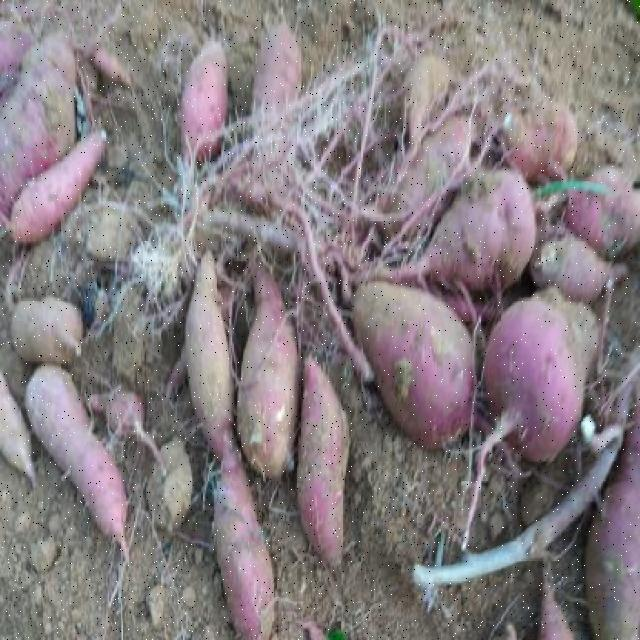Sweet Potato: (333, 234, 481, 460), (234, 237, 306, 506), (293, 350, 362, 595), (183, 224, 242, 490), (174, 30, 235, 176)
